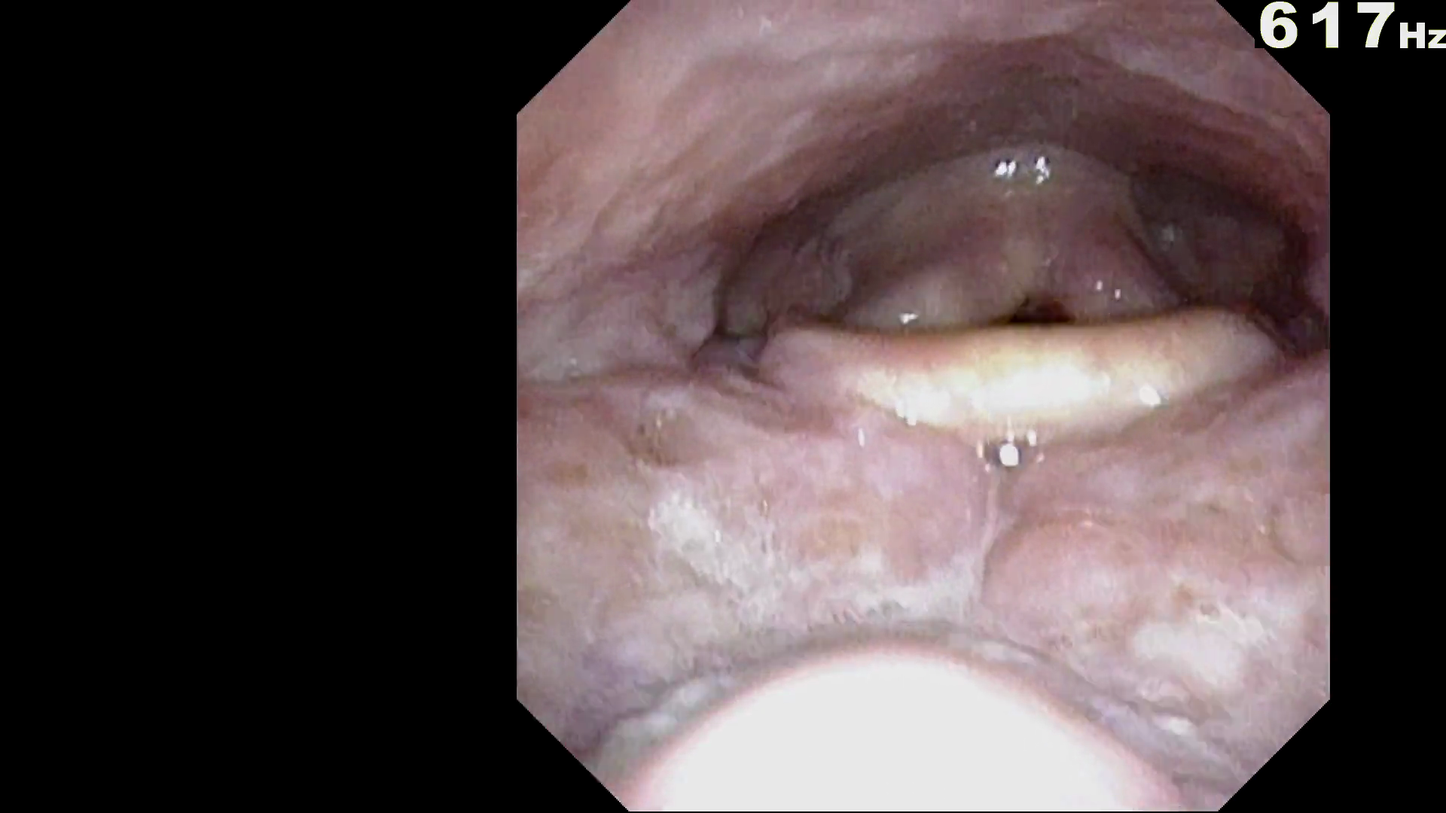epiglottis: (752, 283, 1276, 483)
